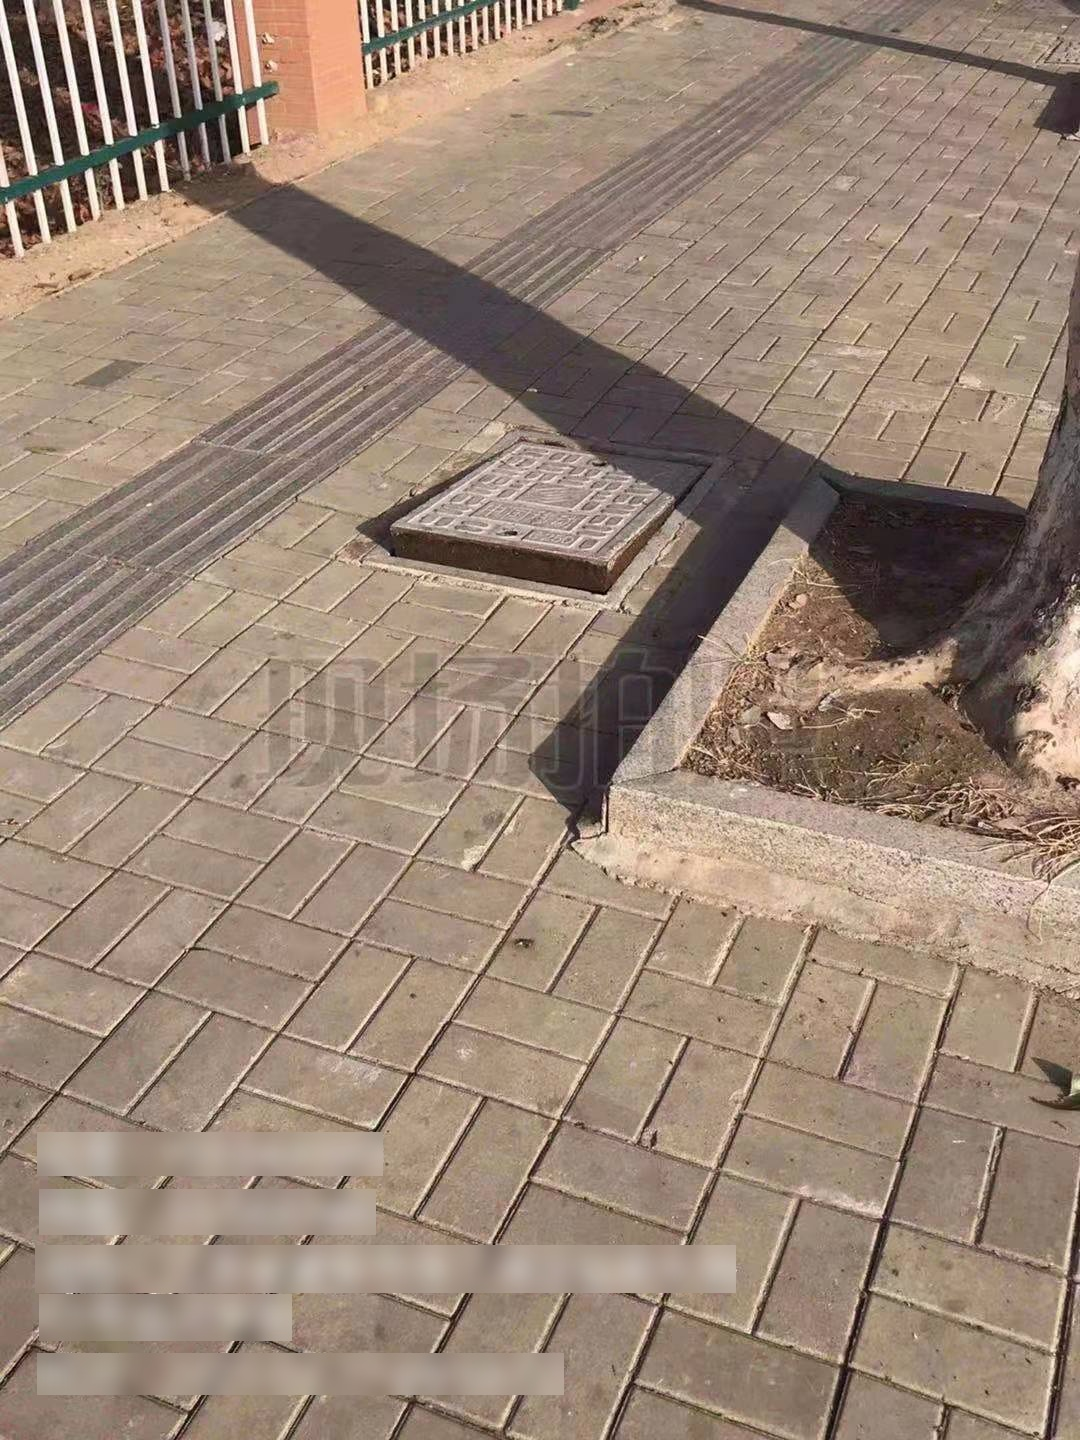uncovered: (358, 430, 728, 608)
